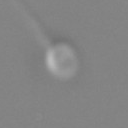normal: (11, 1, 53, 46)
